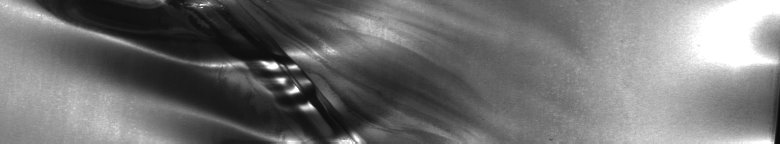ke: (35, 4, 375, 136)
